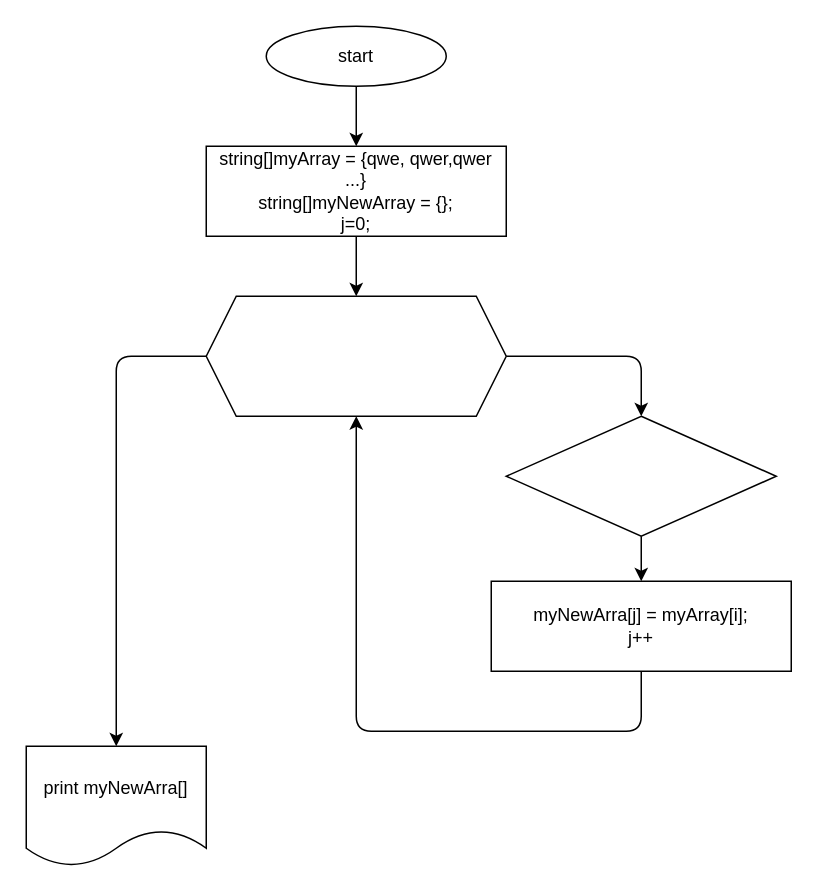
This 818x893 diagram has some shape labels left out. The centre of each missing label's shape, as x and y in pixels:
"for(int i = 0; i < myArray.Lenght; i++" belongs at (x=355, y=355).
"myArray[i].Length<=3" belongs at (x=640, y=475).
